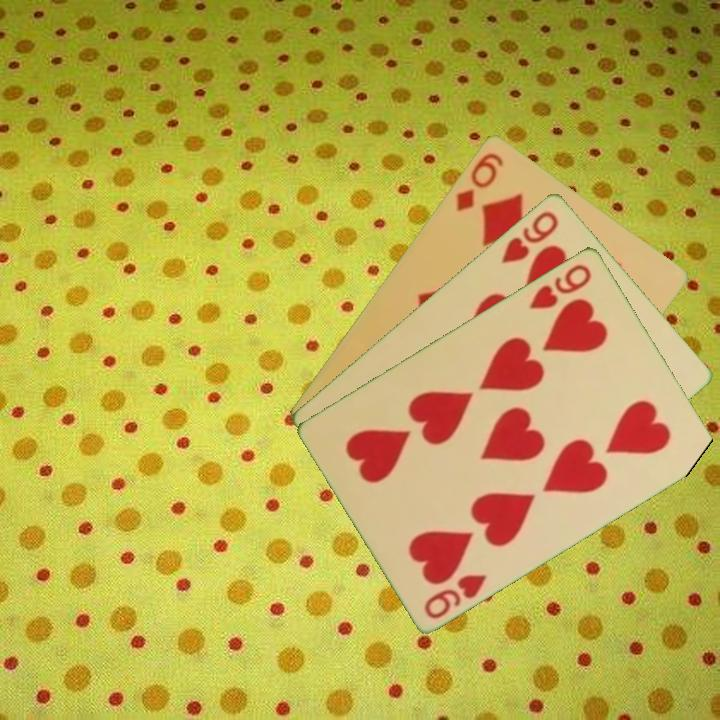6d: (452, 148, 507, 214)
9h: (497, 206, 562, 266), (525, 259, 595, 312), (420, 570, 490, 622)
